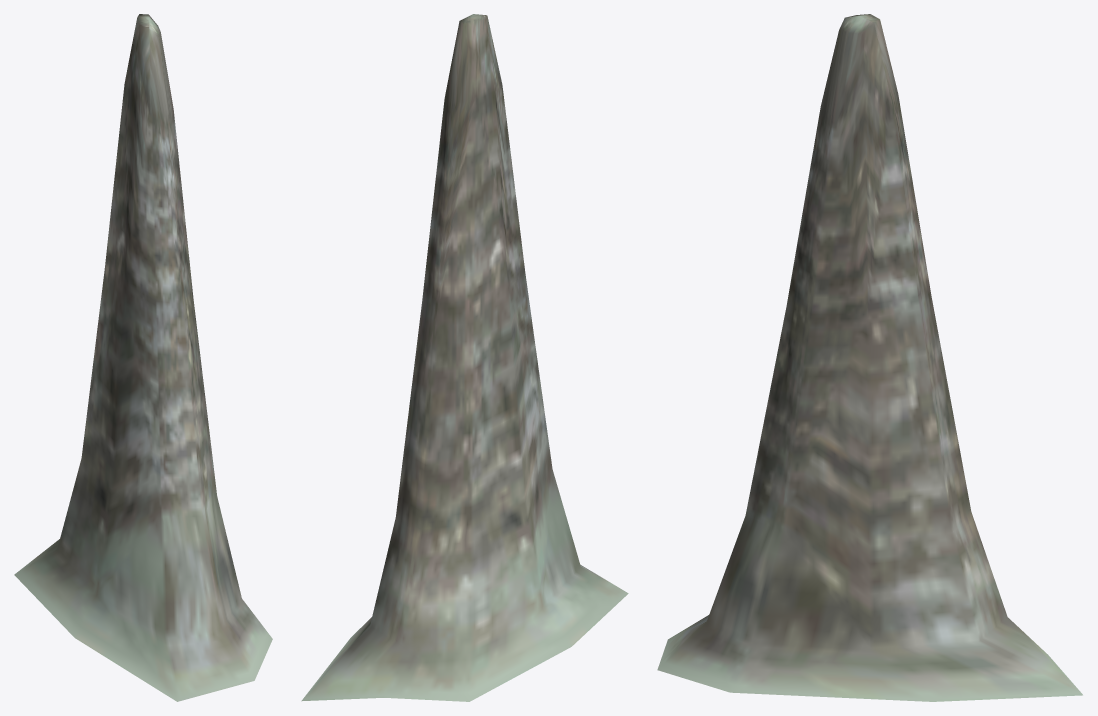
File: TROLLHOLE02_PS-MAINSTALAG04.fbx
The picture shows the model from 3 angles, left to right: view 1: azimuth 30°, elevation 25°; view 2: azimuth 150°, elevation 25°; view 3: azimuth 270°, elevation 25°; orthographic projection. The views are drawn at different scales.
Parts seen in each view (by area): view 1: TROLLHOLE02_PS-MAINSTALAG04; view 2: TROLLHOLE02_PS-MAINSTALAG04; view 3: TROLLHOLE02_PS-MAINSTALAG04.
Boxes of the visible parts, box(x1,y1,x2,y2) form: TROLLHOLE02_PS-MAINSTALAG04: box(14, 14, 272, 701); TROLLHOLE02_PS-MAINSTALAG04: box(301, 14, 628, 701); TROLLHOLE02_PS-MAINSTALAG04: box(657, 14, 1082, 701).
Size of the model in its own units: 12612 by 43471 by 25637.
1 material, 1 textured.
